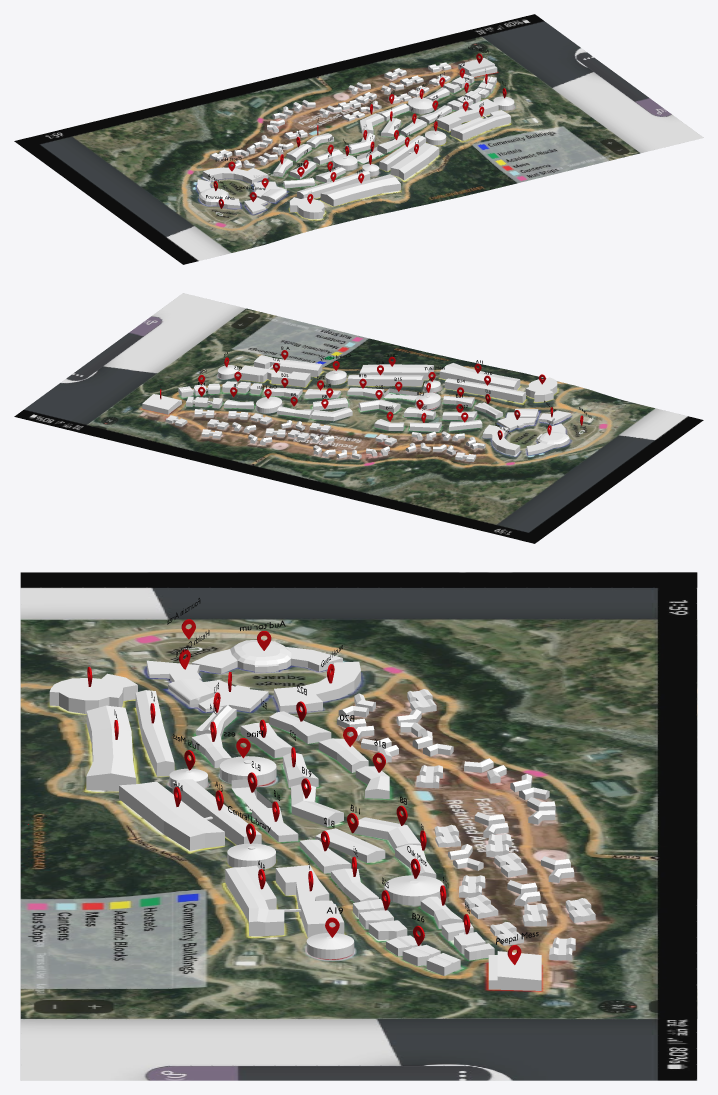
The picture shows the model from 3 angles, top to bottom: view 1: azimuth 30°, elevation 25°; view 2: azimuth 150°, elevation 25°; view 3: azimuth 270°, elevation 25°; orthographic projection. The views are drawn at different scales.
Visible parts, largest first — view 1: B14, A17+A18, A13_+_A14, A11, Guest_House, A10, Auditorium, A9, Plane, Peepal_Mess; view 2: B14, A17+A18, A13_+_A14, A11, A10, Auditorium, A9, Guest_House, Plane, Peepal_Mess, B19, B8 (+1 smaller); view 3: B14, A13_+_A14, A17+A18, A11, Auditorium, A9, Guest_House, Plane, A10, Peepal_Mess, B26, B25 (+17 smaller).
Boxes of the visible parts, box(x1,y1,x2,y2) form: B14: box(14, 14, 703, 264); A17+A18: box(437, 99, 510, 140); A13_+_A14: box(379, 135, 439, 180); A11: box(320, 174, 400, 206); Guest_House: box(202, 167, 268, 183); A10: box(297, 170, 370, 198); Auditorium: box(197, 179, 240, 208); A9: box(289, 197, 324, 219); Plane: box(253, 181, 286, 202); Peepal_Mess: box(458, 58, 497, 76); B14: box(14, 293, 703, 543); A17+A18: box(238, 355, 322, 387); A13_+_A14: box(347, 364, 433, 386); A11: box(439, 363, 520, 390); A10: box(444, 378, 525, 402); Auditorium: box(526, 423, 569, 455); A9: box(525, 377, 557, 401); Guest_House: box(483, 425, 520, 455); Plane: box(497, 408, 538, 430); Peepal_Mess: box(142, 394, 181, 414); B19: box(358, 399, 400, 412); B8: box(311, 407, 352, 421); B14: box(20, 572, 697, 1080); A13_+_A14: box(119, 779, 261, 850); A17+A18: box(225, 865, 344, 937); A11: box(86, 705, 135, 790); Auditorium: box(191, 640, 342, 673); A9: box(49, 673, 137, 713); Guest_House: box(274, 661, 360, 712); Plane: box(168, 679, 268, 712); A10: box(135, 690, 174, 776); Peepal_Mess: box(488, 951, 541, 990); B26: box(386, 935, 460, 975); B25: box(353, 899, 407, 939).
Bounding box in the file's own units: 1600 × 90.46 × 900.
4 materials, 1 textured.
